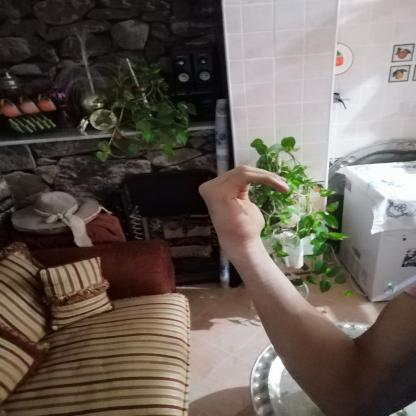HAA: (186, 154, 301, 258)
